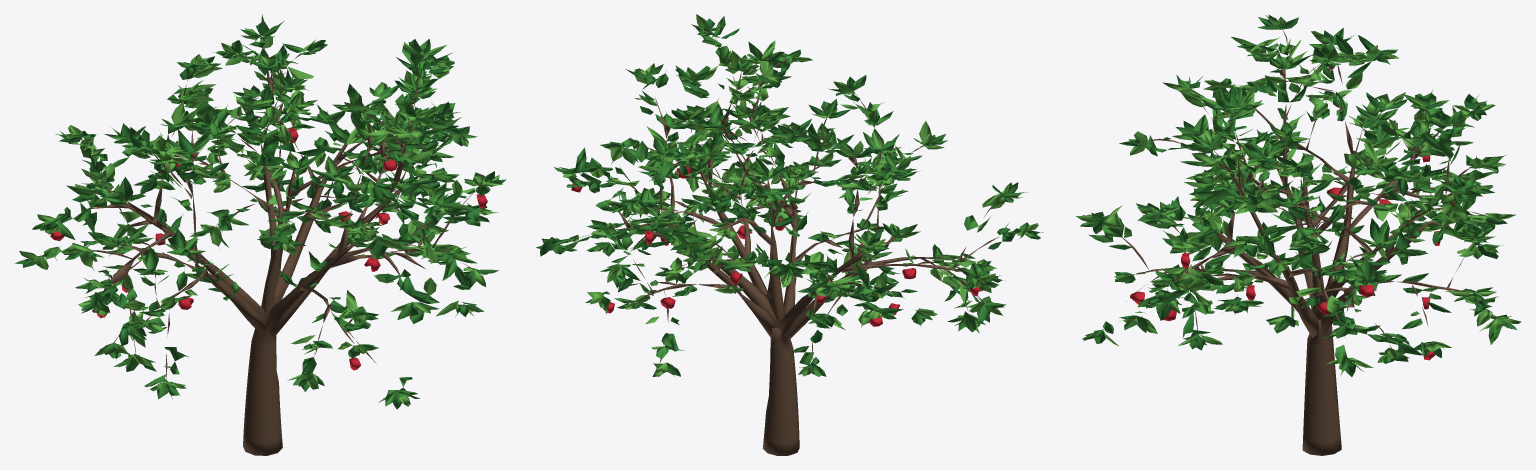
Rendered from 28_3_mid.glb.
3 views of the same model, side by side, from view 1: azimuth 30°, elevation 25°; view 2: azimuth 150°, elevation 25°; view 3: azimuth 270°, elevation 25° (orthographic). The views are drawn at different scales.
Visible parts, largest first — view 1: body; view 2: body; view 3: body.
Boxes of the visible parts, x1,y1,x2,y2 form: body: (14,14,506,455); body: (536,14,1043,455); body: (1076,15,1521,455).
Size of the model in its own units: 4.57 by 3.81 by 3.74.
Materials: 1 (1 with a texture image).
